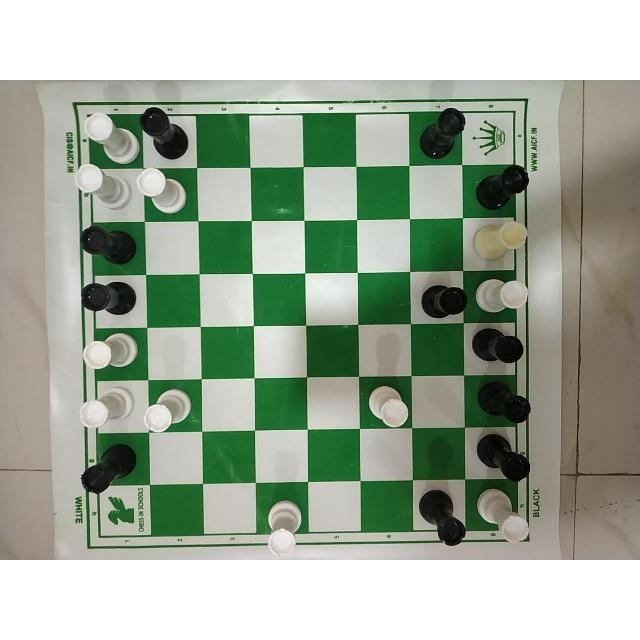black-rook: (414, 486, 468, 550), (78, 443, 139, 495), (139, 107, 193, 163), (474, 432, 533, 482), (415, 106, 466, 161), (474, 380, 536, 424), (476, 163, 531, 212), (76, 279, 140, 319), (78, 226, 136, 265), (470, 325, 527, 364), (419, 283, 471, 321)
white-rook: (472, 487, 532, 544), (80, 111, 140, 166), (70, 164, 134, 211), (472, 219, 532, 267), (73, 387, 136, 429), (473, 277, 529, 321), (137, 166, 187, 215), (262, 500, 305, 555), (143, 386, 193, 433), (80, 334, 140, 373), (367, 384, 410, 428)
